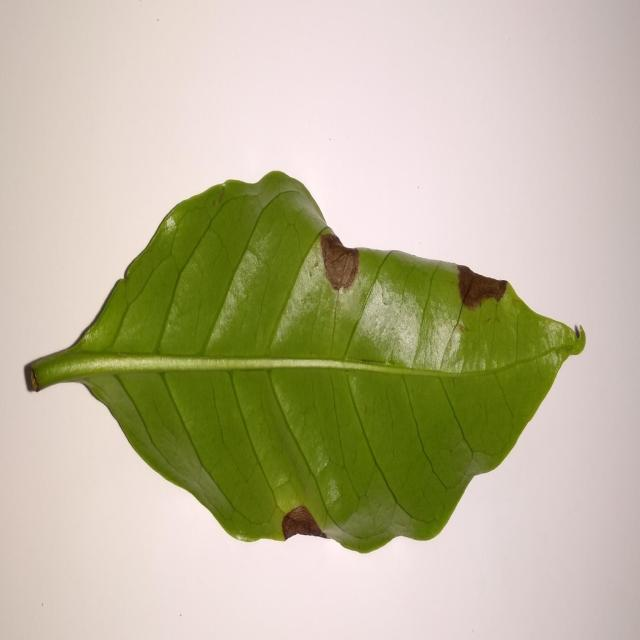phoma: (320, 232, 359, 291), (457, 265, 508, 309), (282, 506, 340, 541)
